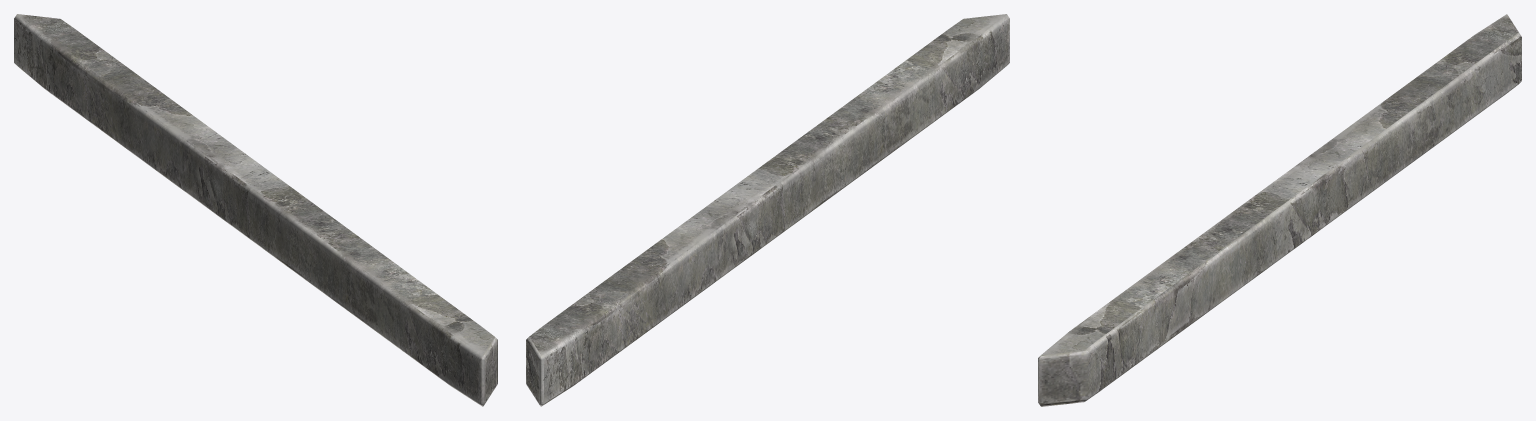
The model's file is SM_ConcreateFloor_Border_v1.fbx.
3 renders of one model, left to right at view 1: azimuth 30°, elevation 25°; view 2: azimuth 150°, elevation 25°; view 3: azimuth 330°, elevation 25°, orthographic.
Parts seen in each view (by area): view 1: SM_ConcreateFloor_Border_v1_LOD0; view 2: SM_ConcreateFloor_Border_v1_LOD0; view 3: SM_ConcreateFloor_Border_v1_LOD0.
Part boxes in pixels (x1=…): SM_ConcreateFloor_Border_v1_LOD0: x1=14, y1=14, x2=497, y2=406; SM_ConcreateFloor_Border_v1_LOD0: x1=526, y1=14, x2=1009, y2=406; SM_ConcreateFloor_Border_v1_LOD0: x1=1038, y1=14, x2=1521, y2=406.
Size of the model in its own units: 14.44 by 322 by 20.
